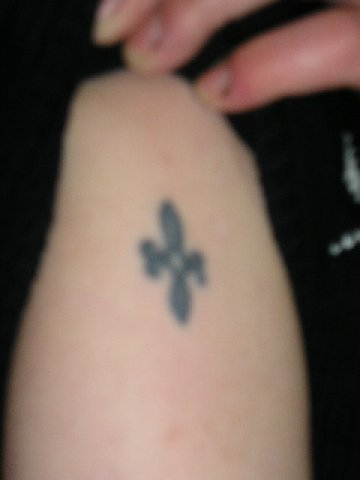tatu9_krest: (134, 188, 230, 329)
